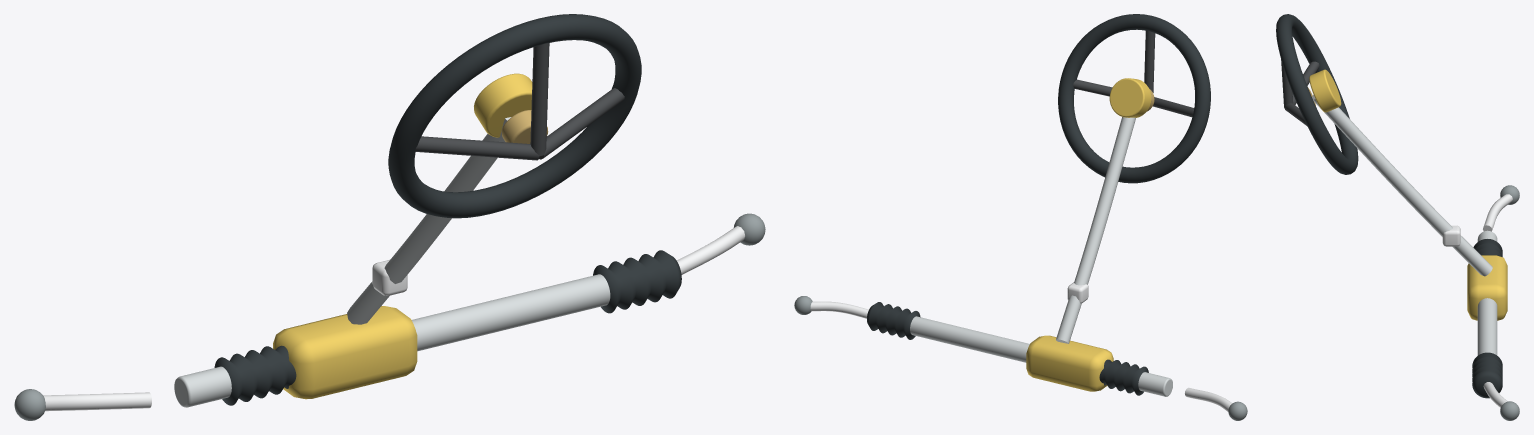
File: steering_rally.fbx
3 renders of one model, left to right at view 1: azimuth 30°, elevation 25°; view 2: azimuth 150°, elevation 25°; view 3: azimuth 270°, elevation 25°, orthographic. The views are drawn at different scales.
Visible parts, largest first — view 1: steering_rally; view 2: steering_rally; view 3: steering_rally.
Boxes of the visible parts, <box> form: steering_rally: <box>14,14,765,420</box>; steering_rally: <box>794,14,1247,420</box>; steering_rally: <box>1276,14,1519,420</box>.
Size of the model in its own units: 118 by 72.16 by 54.36.
